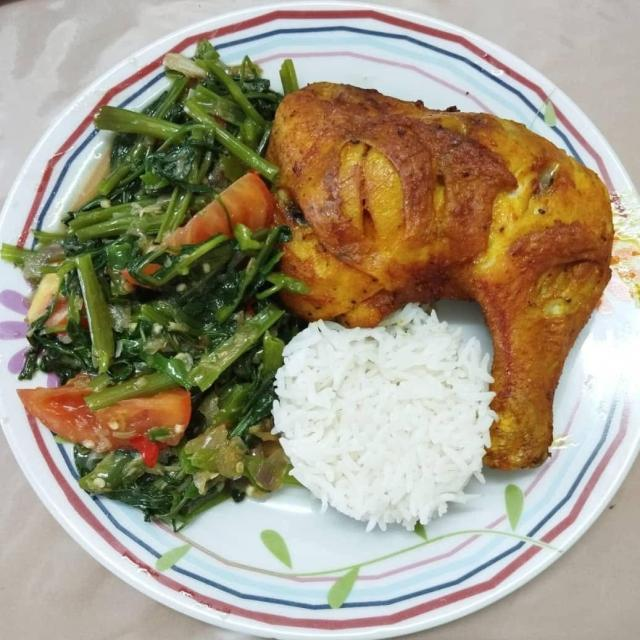Chicken: (273, 79, 617, 473)
Plate: (0, 350, 554, 633)
Rice: (269, 308, 495, 531)
Vegetables: (3, 37, 285, 525)
